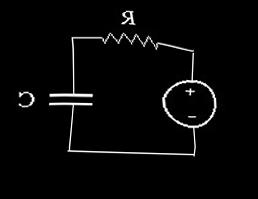Battery: (145, 72, 229, 133)
